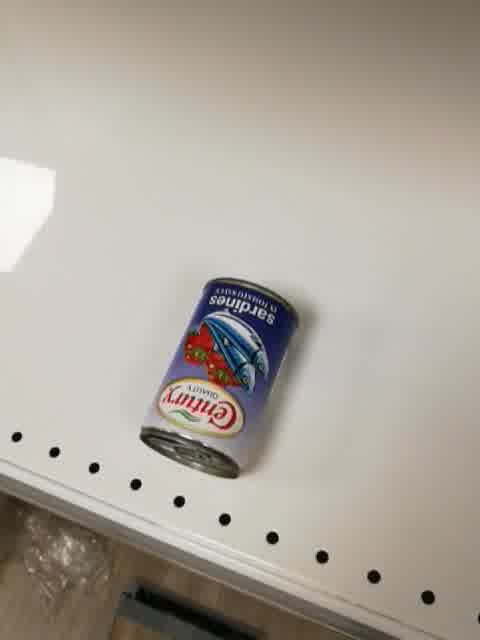sardine: (140, 276, 299, 480)
